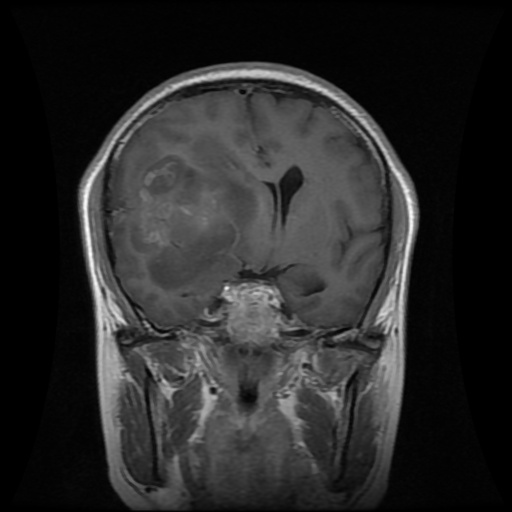glioma: (127, 137, 258, 300)
